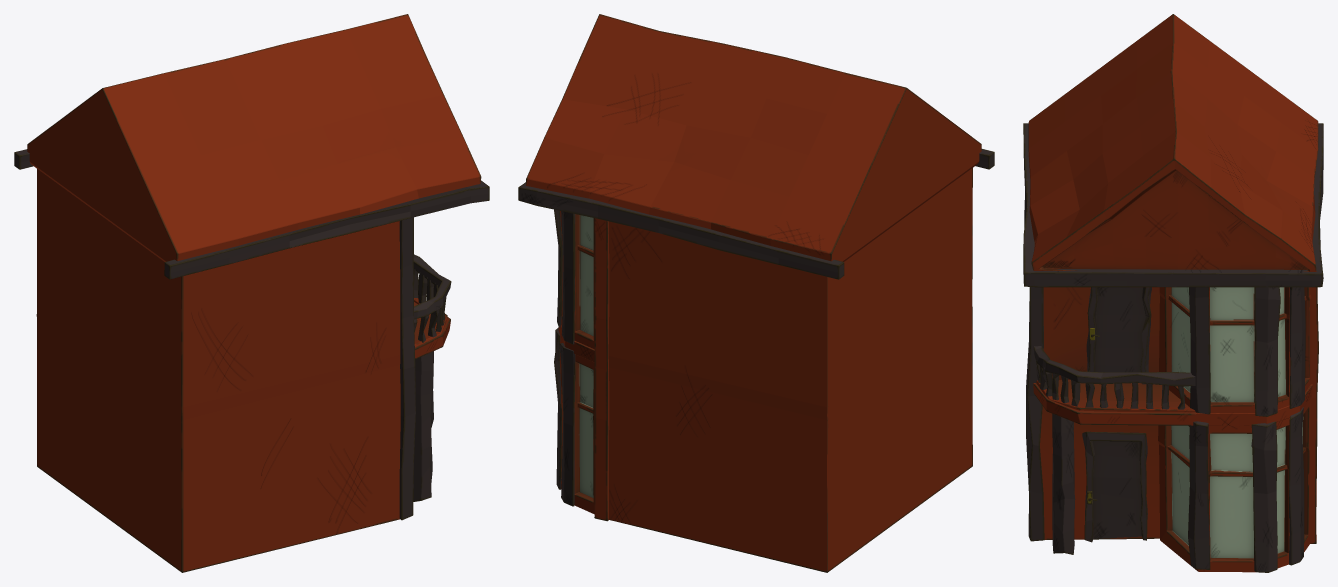
File: BuildingHouse_01.fbx
The picture shows the model from 3 angles, left to right: view 1: azimuth 30°, elevation 25°; view 2: azimuth 150°, elevation 25°; view 3: azimuth 270°, elevation 25°; orthographic projection. The views are drawn at different scales.
Parts seen in each view (by area): view 1: House_01; view 2: House_01; view 3: House_01.
Part boxes in pixels (bbox=[...]): House_01: bbox=[14, 14, 489, 572]; House_01: bbox=[518, 14, 994, 572]; House_01: bbox=[1023, 14, 1323, 572].
Size of the model in its own units: 599 by 773 by 503.
